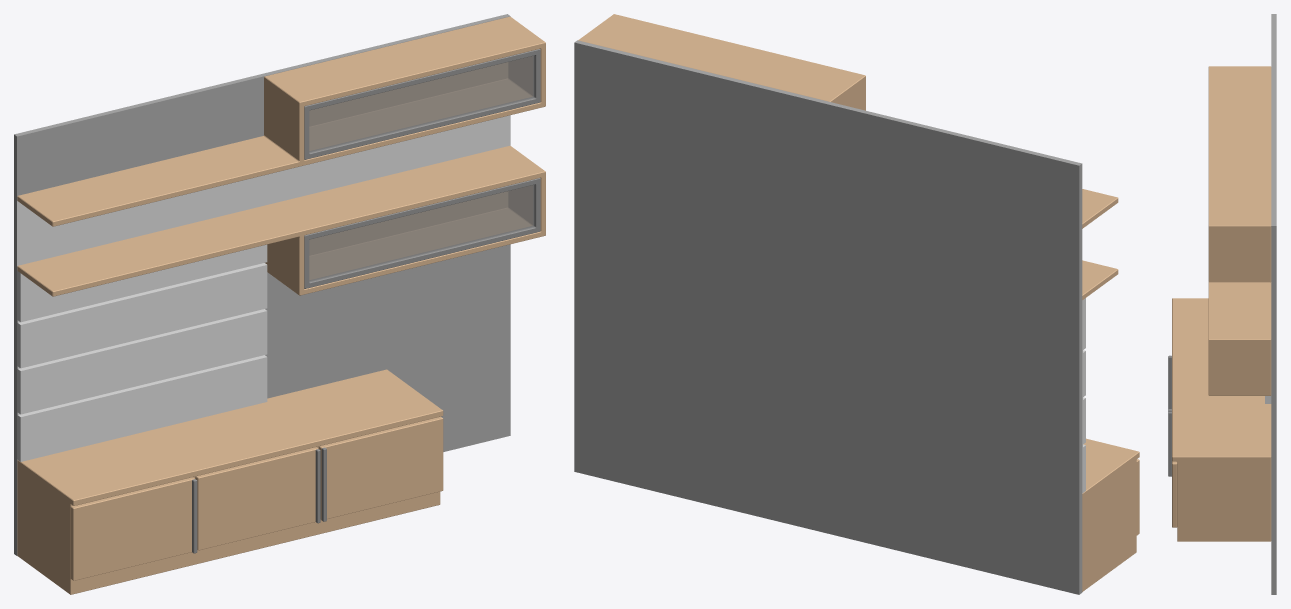
The model's file is Tv+Unit_06_fbx.FBX.
3 views of the same model, side by side, from view 1: azimuth 30°, elevation 25°; view 2: azimuth 150°, elevation 25°; view 3: azimuth 270°, elevation 25° (orthographic). The views are drawn at different scales.
Parts seen in each view (by area): view 1: TVUNIT06obj02, TVUNIT06obj05, TVUNIT06obj04, TVUNIT06obj03, TVUNIT06obj01, TVUNIT06obj07, TVUNIT06obj06, TVUNIT06obj09, TVUNIT06obj08; view 2: TVUNIT06obj02, TVUNIT06obj04, TVUNIT06obj01, TVUNIT06obj03, TVUNIT06obj05; view 3: TVUNIT06obj01, TVUNIT06obj04, TVUNIT06obj03, TVUNIT06obj02, TVUNIT06obj08, TVUNIT06obj07.
Boxes of the visible parts, x1,y1,x2,y2 form: TVUNIT06obj02: [14, 14, 510, 555]; TVUNIT06obj05: [17, 244, 267, 461]; TVUNIT06obj04: [17, 16, 545, 226]; TVUNIT06obj03: [17, 145, 545, 296]; TVUNIT06obj01: [17, 369, 443, 594]; TVUNIT06obj07: [70, 416, 443, 580]; TVUNIT06obj06: [304, 178, 540, 288]; TVUNIT06obj09: [304, 49, 540, 159]; TVUNIT06obj08: [192, 447, 326, 553]; TVUNIT06obj02: [574, 40, 1082, 594]; TVUNIT06obj04: [578, 14, 1118, 228]; TVUNIT06obj01: [1082, 438, 1139, 591]; TVUNIT06obj03: [1082, 260, 1118, 299]; TVUNIT06obj05: [1082, 298, 1085, 493]; TVUNIT06obj01: [1172, 298, 1271, 541]; TVUNIT06obj04: [1208, 66, 1271, 282]; TVUNIT06obj03: [1208, 282, 1271, 395]; TVUNIT06obj02: [1271, 14, 1276, 594]; TVUNIT06obj08: [1168, 355, 1171, 476]; TVUNIT06obj07: [1172, 461, 1177, 527].
Bounding box in the file's own units: 96 × 20.69 × 78.
